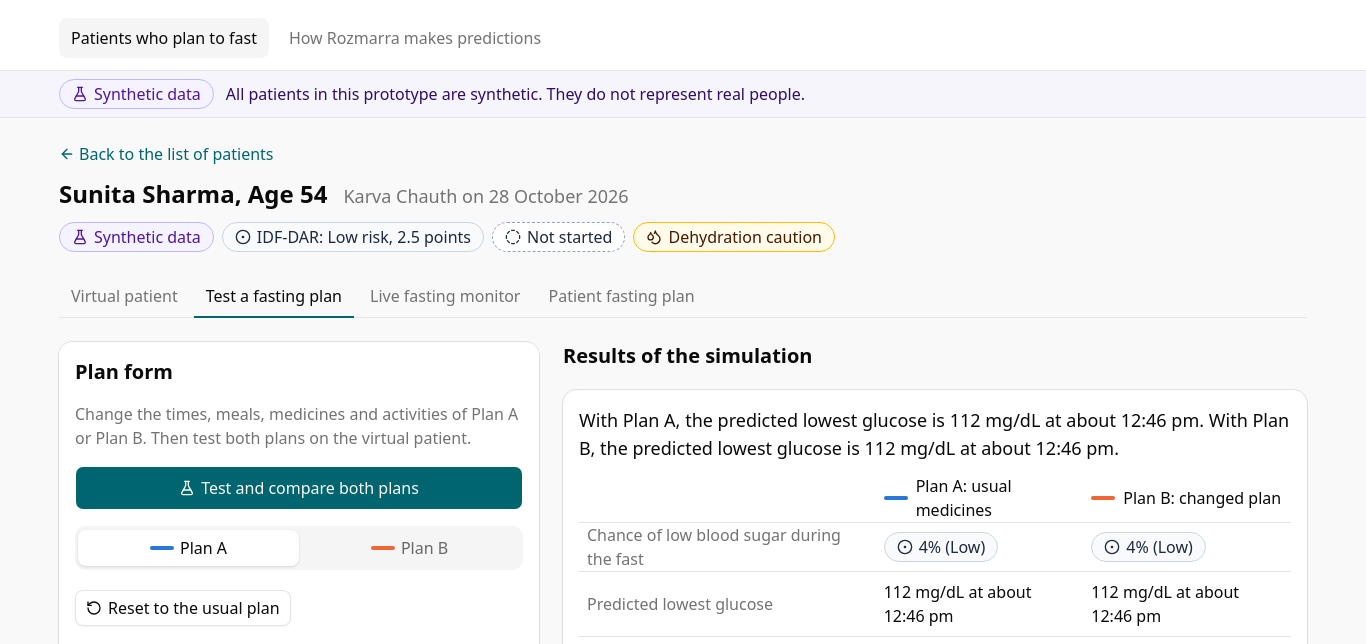
Test: the simulator compares two plans and saves them when the doctor tests them
The image size is (1366, 644).
Expected: the text "With Plan A, the predicted lowest glucose is" is shown, [579, 408, 1289, 460]
Expected: the text "Dehydration caution" is shown, [634, 222, 835, 252]
# The doctor lowers the glimepiride dose in Plan B.
Click the tab "Plan B": (410, 548) [299, 530, 520, 566]
(page scrolled)
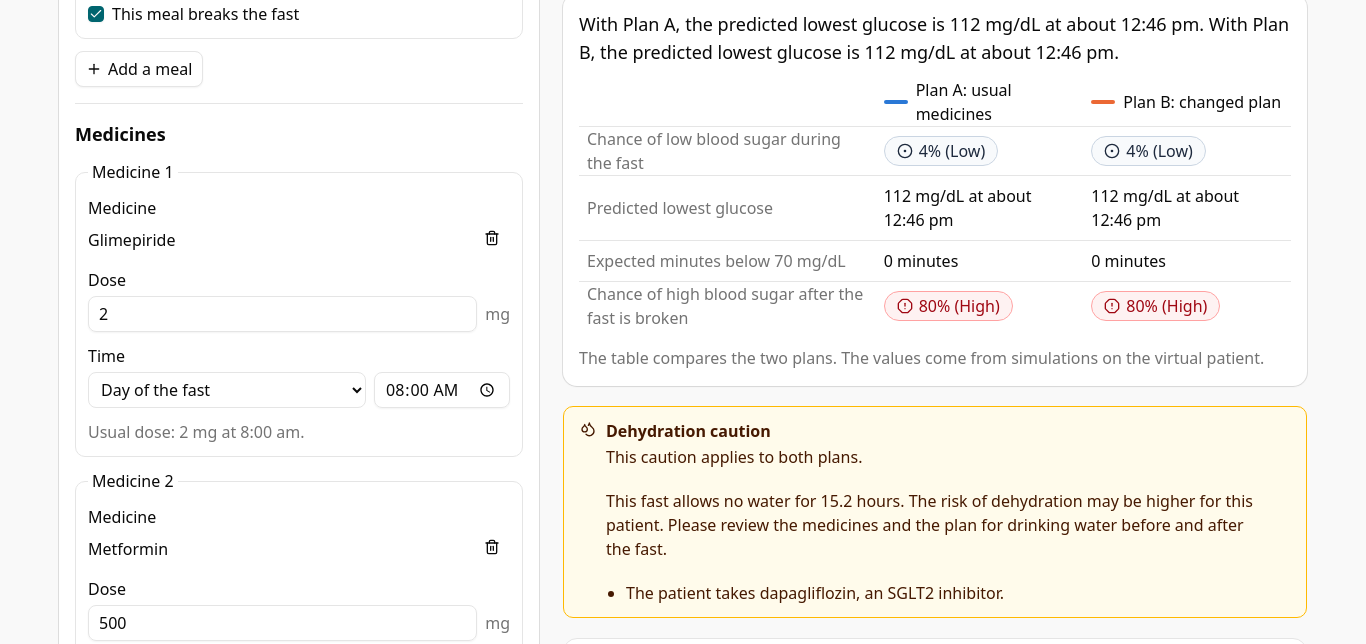
Replace the text in the number field named "Dose, Glimepiride" with "1": (283, 314) [88, 296, 477, 332]
(page scrolled)
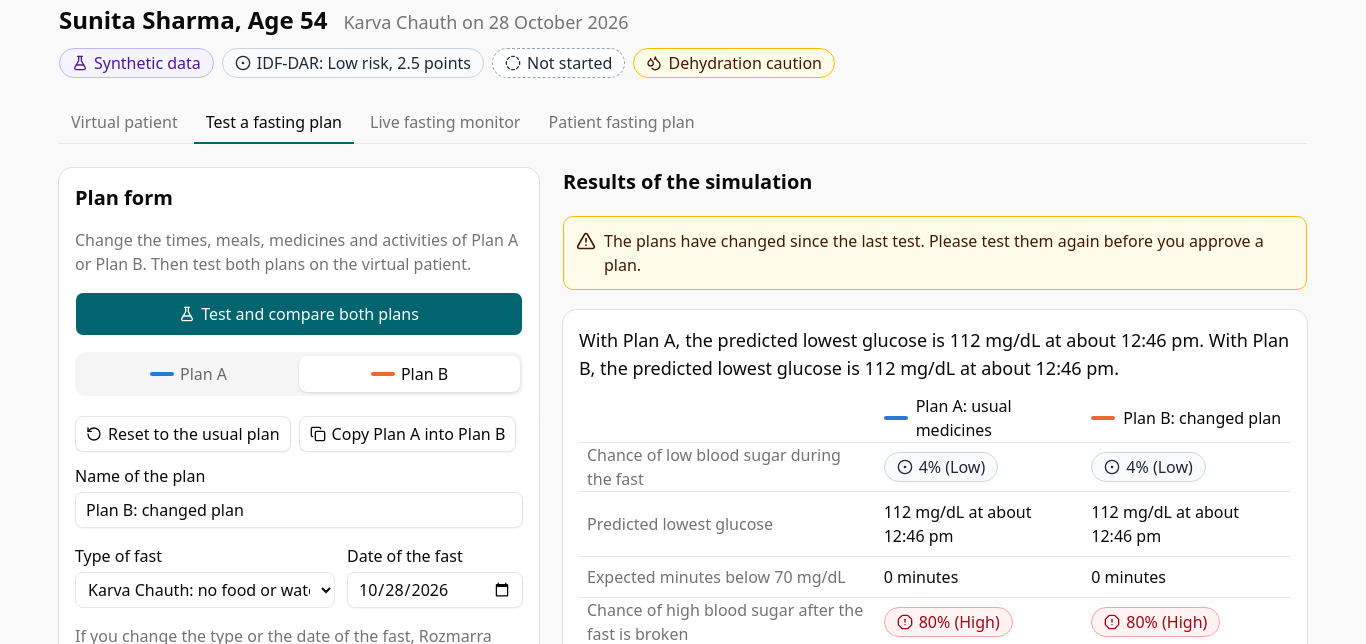
Result: the text "The plans have changed since the last test" is shown at [604, 230, 1264, 276]
Click the button "Test and compare both plans": (299, 314) [75, 292, 523, 336]
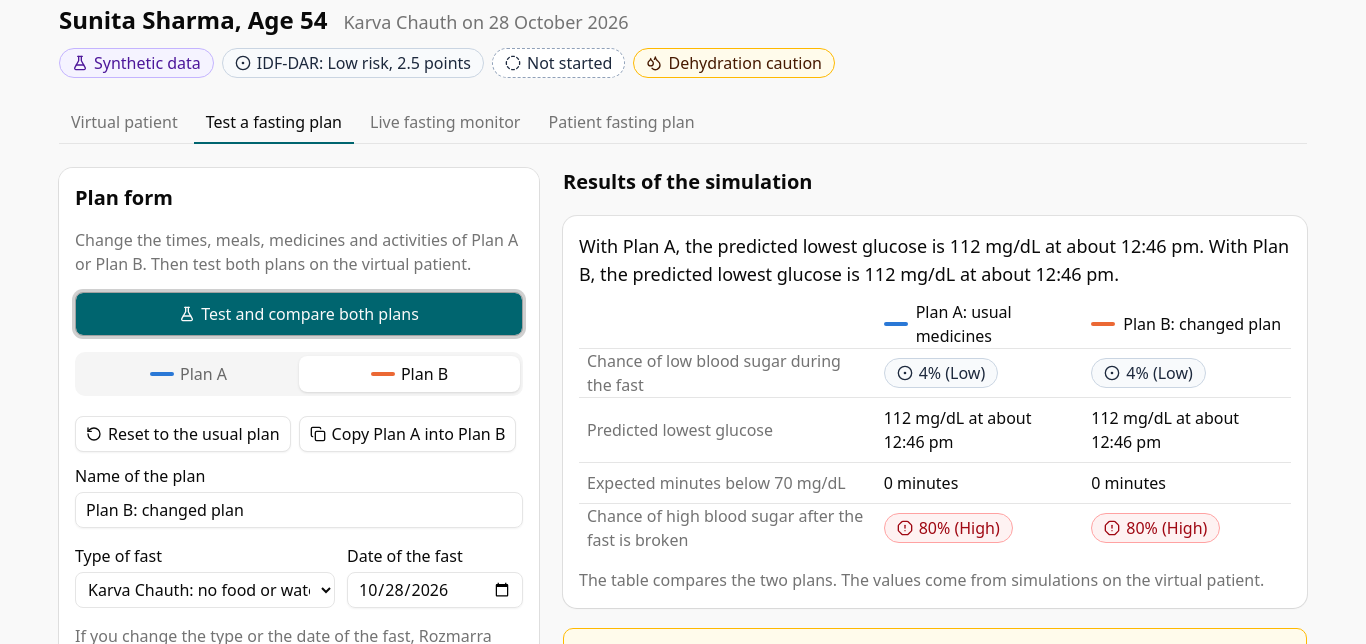
Result: the text "The plans have changed since the last test" is gone
